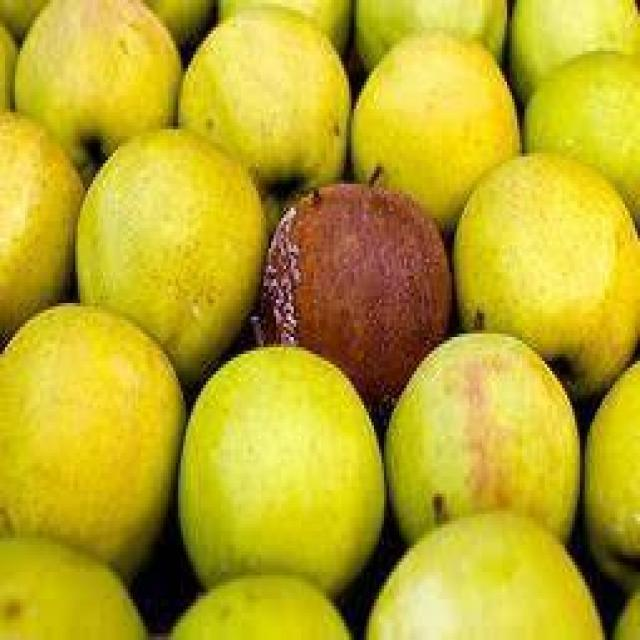Apple: (263, 180, 457, 388)
